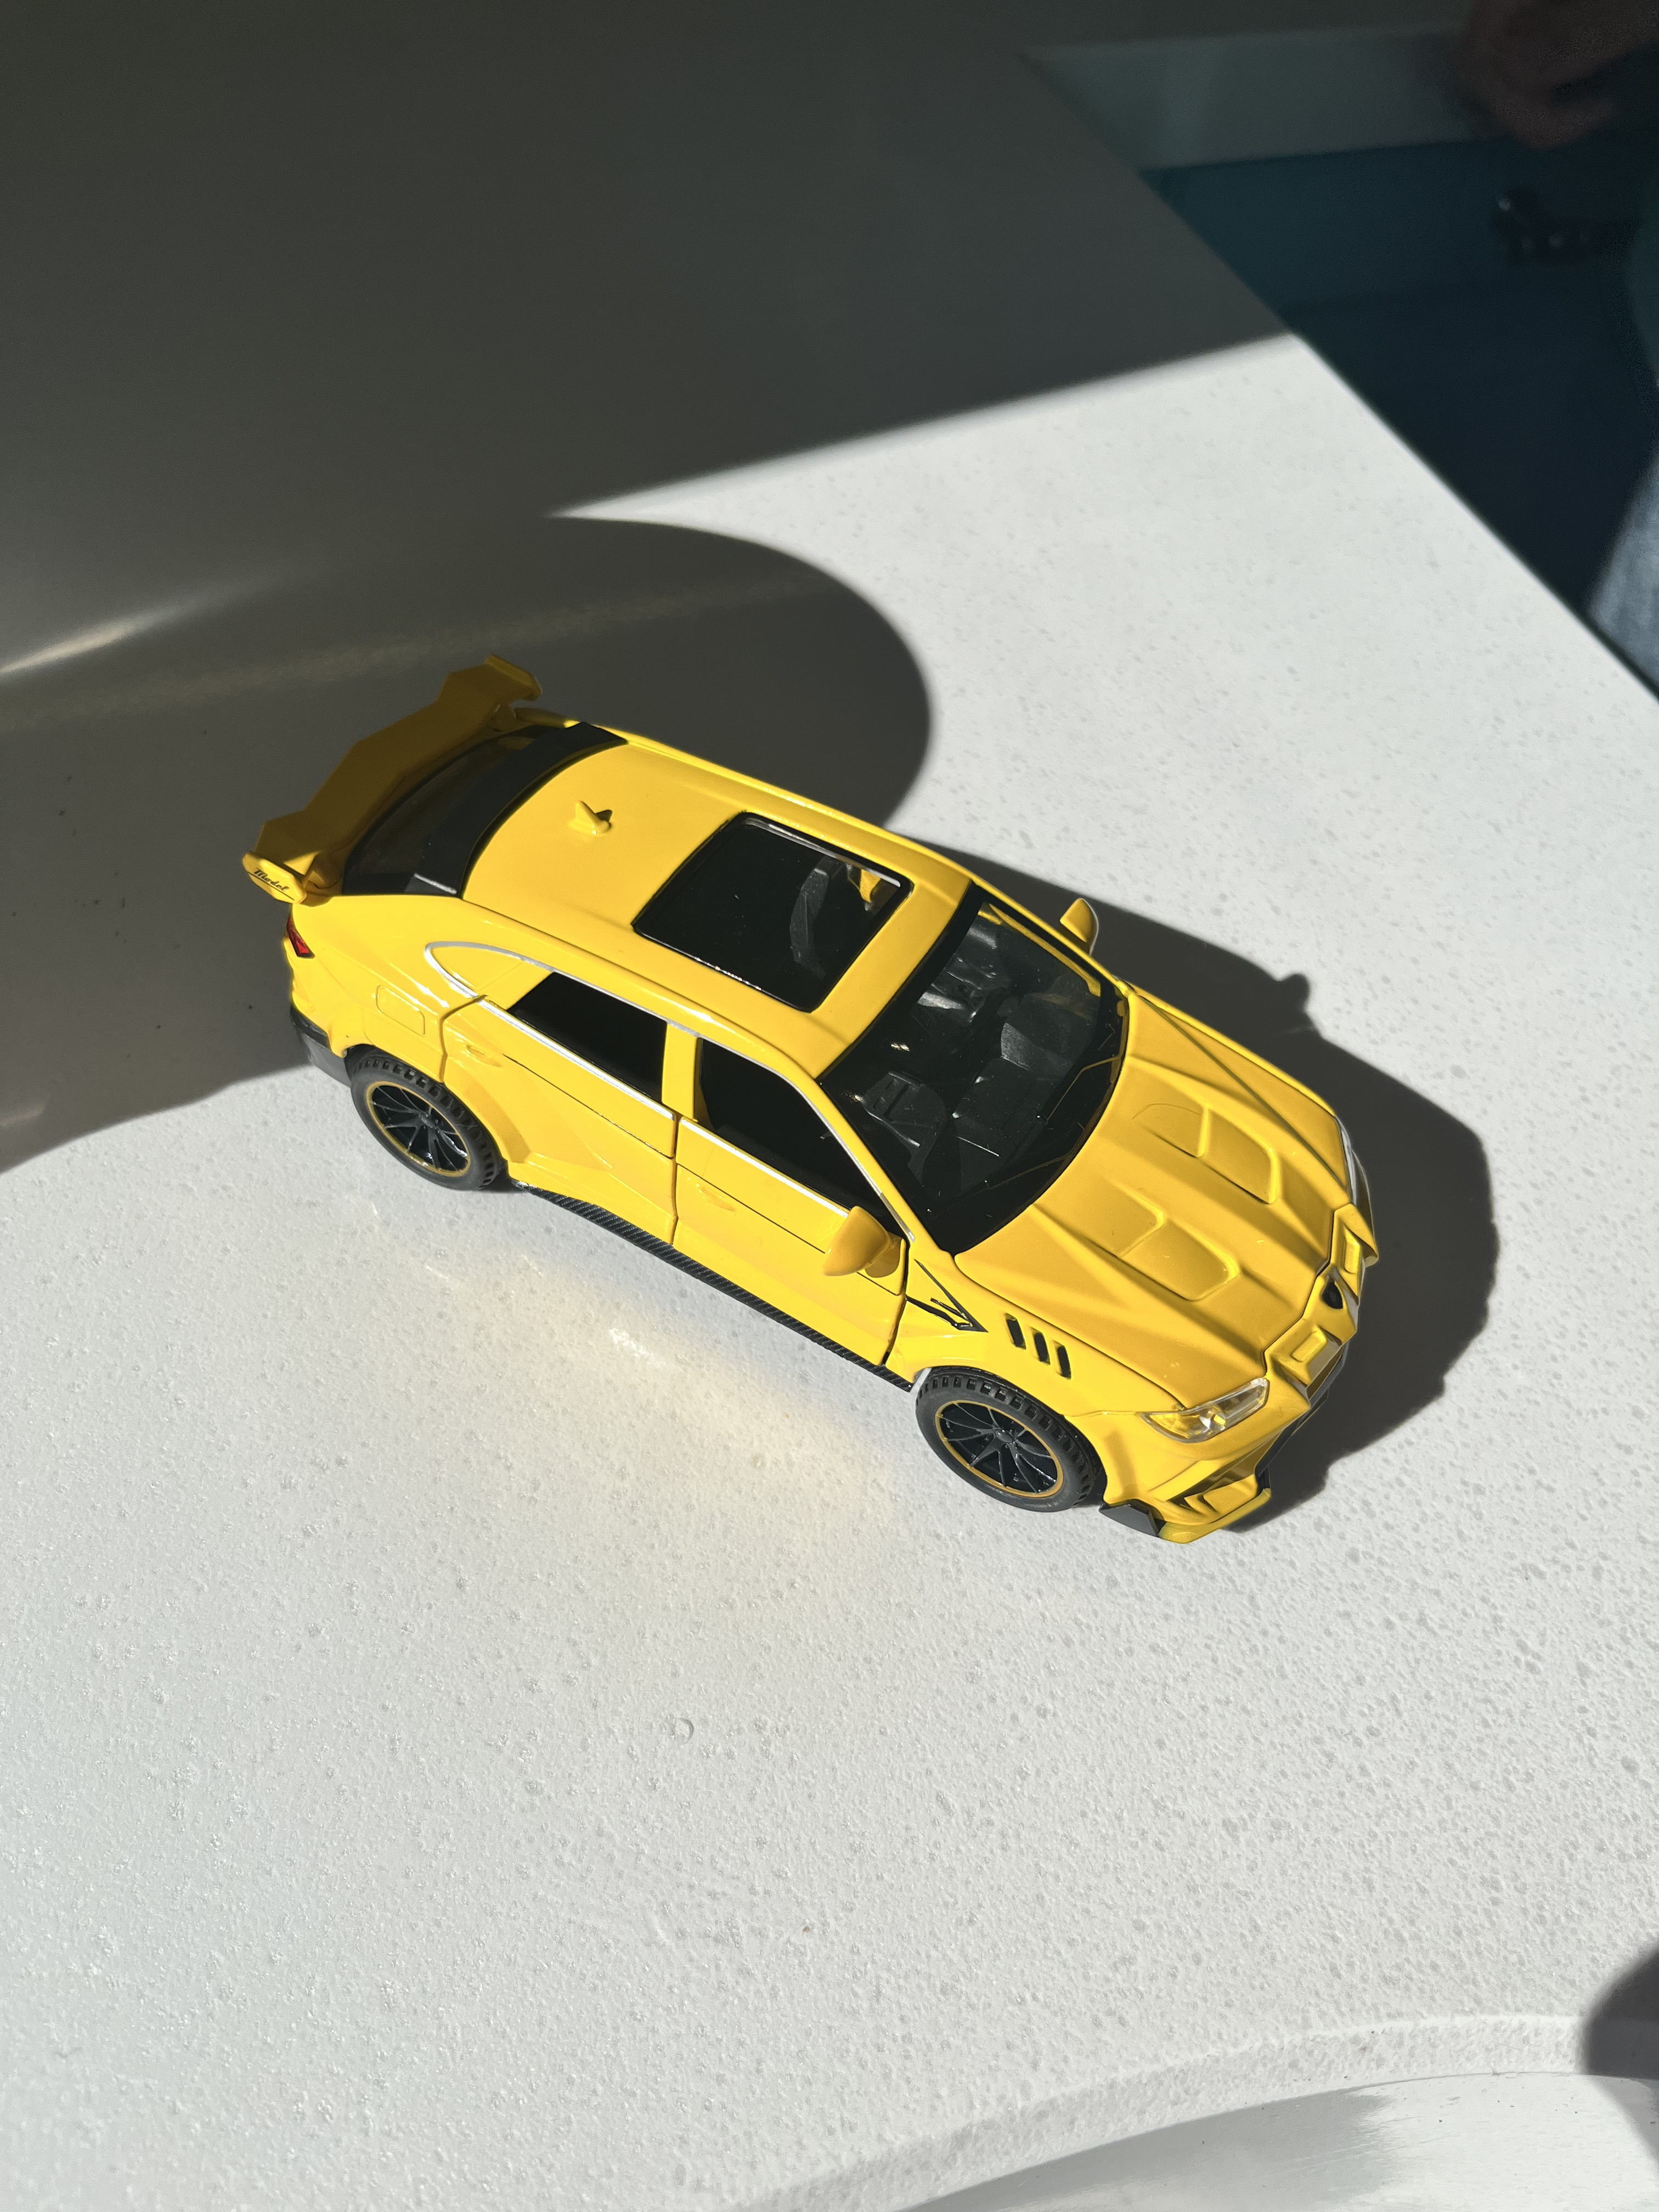lambo: (211, 622, 1377, 1568)
